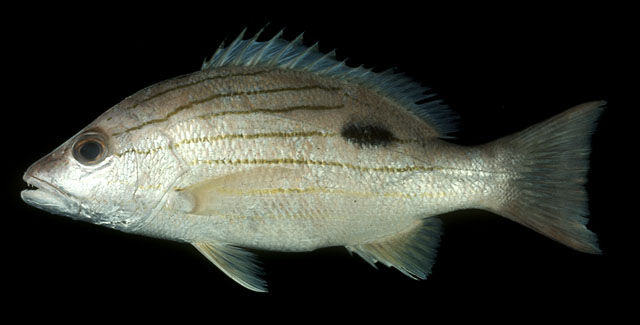fish: (21, 25, 605, 293)
